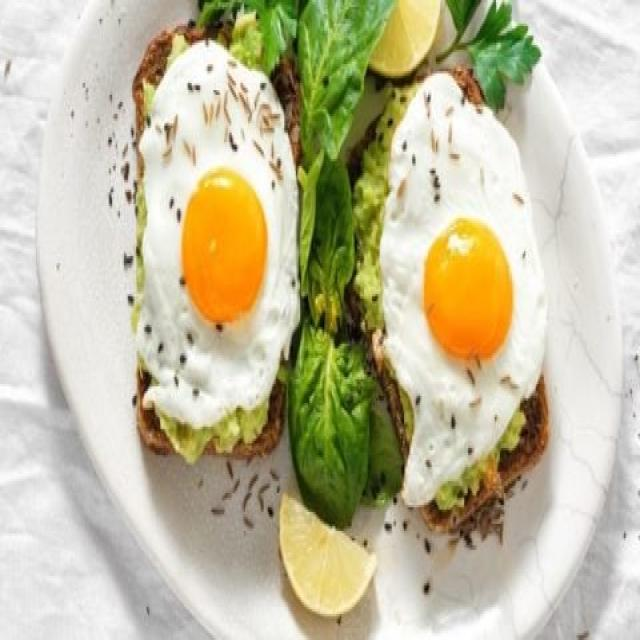Egg: (379, 73, 548, 507), (136, 40, 300, 461)
